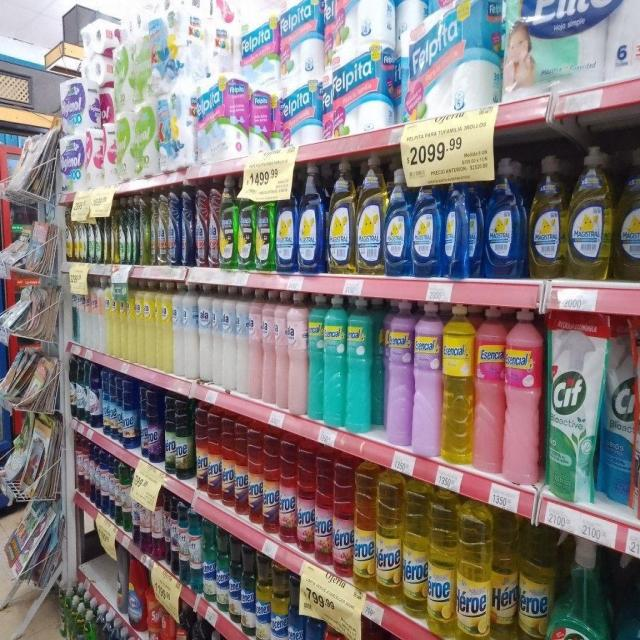ala_conc_amarillo: (158, 192, 168, 266), (141, 194, 149, 266), (150, 193, 157, 266)
ala_conc_azul: (180, 186, 193, 267), (168, 190, 180, 267)
ala_conc_rojo: (195, 185, 208, 268), (208, 184, 220, 269)
ala_crem_amarillo: (144, 280, 156, 368), (161, 281, 172, 373), (135, 280, 144, 364), (127, 281, 135, 362), (120, 281, 128, 360), (112, 279, 120, 358), (155, 280, 161, 370)
ala_crem_blanco: (222, 286, 236, 390), (236, 287, 248, 395), (199, 284, 212, 383), (185, 283, 198, 379), (173, 283, 184, 376), (212, 285, 222, 387)
ala_crem_rosado: (288, 292, 308, 415), (248, 288, 262, 401), (275, 290, 288, 410), (262, 290, 275, 404)
cif_conc_bot_amarilla: (111, 200, 117, 264), (104, 204, 110, 264)
cif_conc_botella_verde: (118, 197, 125, 264), (127, 196, 133, 265), (133, 197, 139, 264), (88, 210, 95, 264), (96, 209, 102, 264)
esencial: (504, 308, 543, 485), (442, 303, 474, 465), (474, 306, 504, 475), (412, 301, 442, 458), (383, 299, 413, 449), (346, 296, 375, 432), (323, 294, 345, 427), (308, 292, 324, 420)
heroe: (76, 279, 88, 346), (90, 277, 100, 351), (100, 277, 108, 354)
magistral_con_amarillo: (568, 144, 613, 280), (528, 153, 566, 280), (615, 144, 640, 282), (356, 156, 383, 276), (327, 159, 355, 274)
magistral_con_azul: (485, 157, 526, 279), (443, 166, 482, 279), (412, 168, 442, 278), (299, 161, 325, 275), (385, 165, 411, 278), (276, 173, 297, 273)
